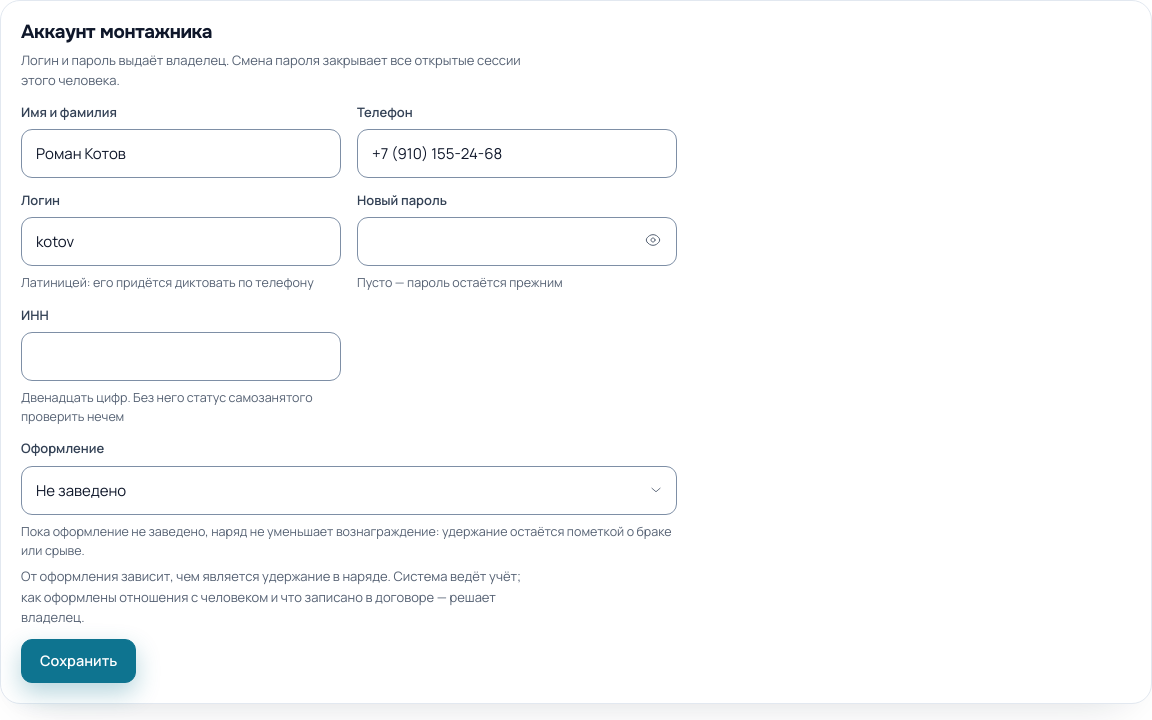
it: Учётная запись монтажника — оформление › объясняет последствие выбранного оформления, а не называет его
Step 1. Select "Трудовой договор" in the dropdown labelled "Оформление" → (349, 490), box [21,466,677,515]
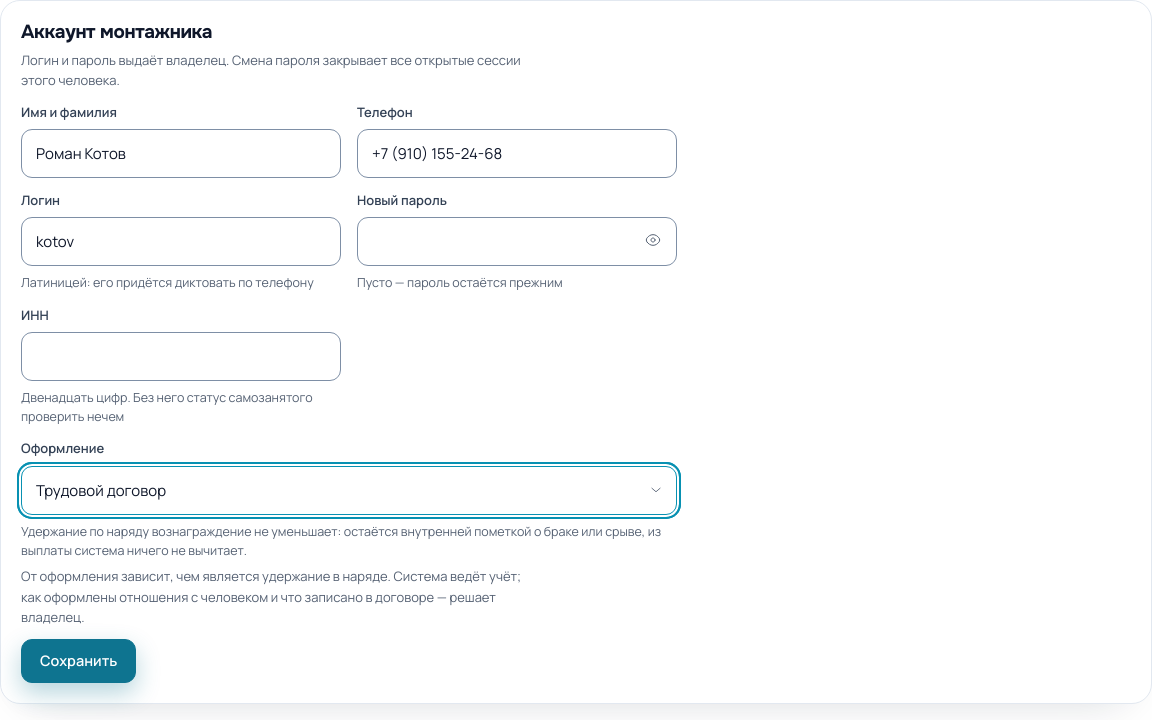
Expected: the text "Удержание по наряду вознаграждение не уменьшает: остаётся внутренней пометкой о браке или срыве, из выплаты система ниче" is shown, [21,523,661,559]
Expected: the text "Пока оформление не заведено, наряд не уменьшает вознаграждение: удержание остаётся пометкой о браке или срыве." is gone
